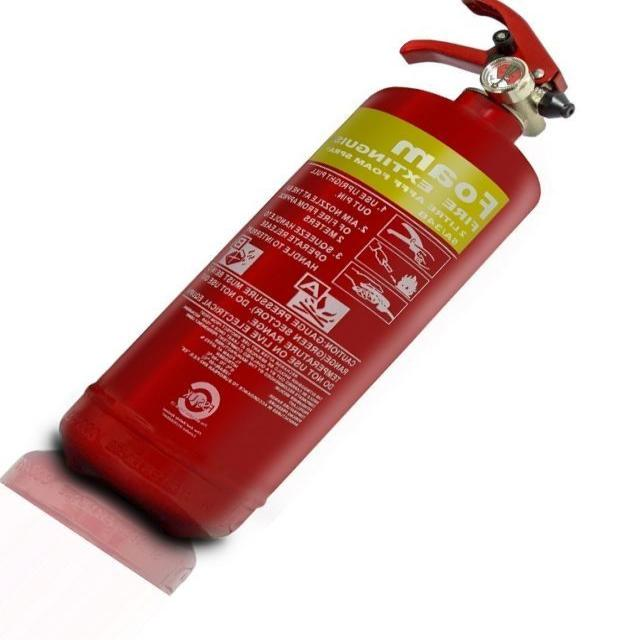fire_extinguisher: (47, 0, 580, 546)
